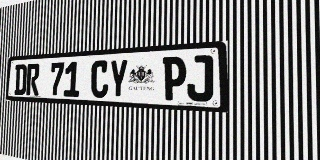1: (64, 61, 80, 97)
7: (49, 62, 64, 97)
C: (91, 60, 109, 98)
D: (14, 64, 27, 95)
J: (187, 55, 213, 102)
P: (162, 56, 186, 101)
R: (26, 63, 40, 96)
Y: (109, 59, 128, 99)
